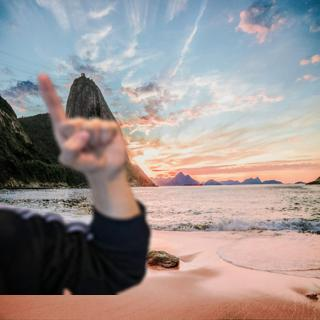IRRITATED: (33, 71, 127, 176)
